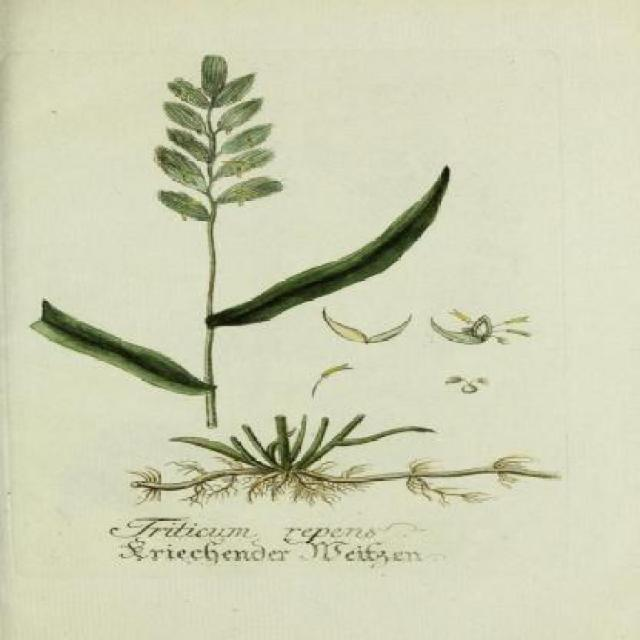Zucchini: (192, 172, 466, 336)
